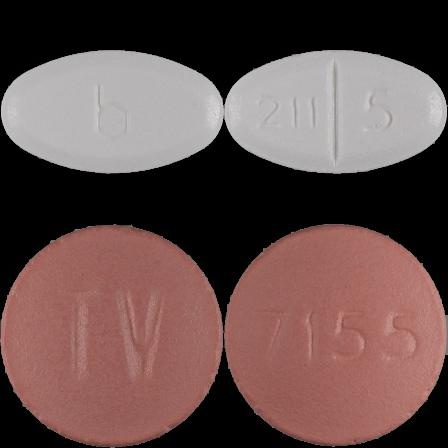0179-1847: (0, 0, 224, 224)
